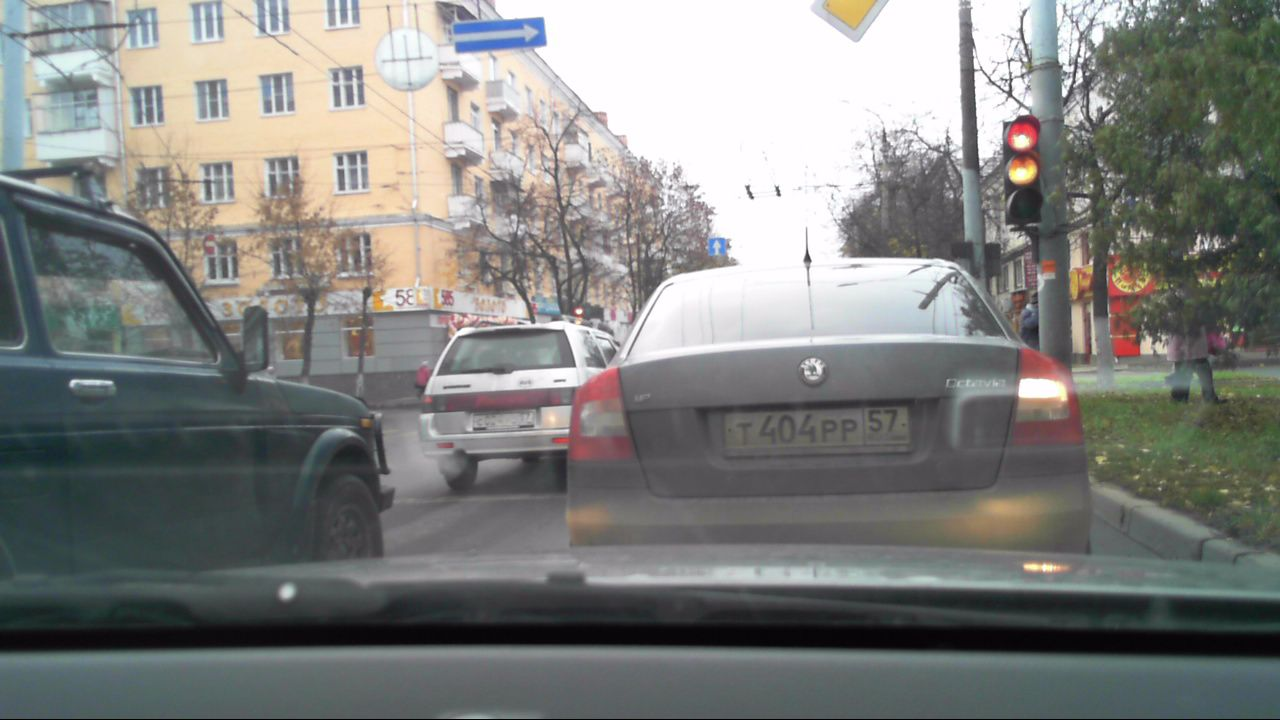One-Way Traffic: (454, 17, 546, 53)
